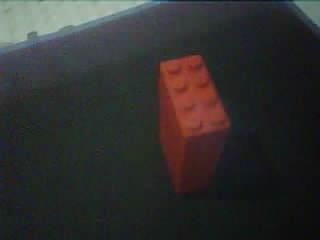lego: (158, 52, 234, 194)
